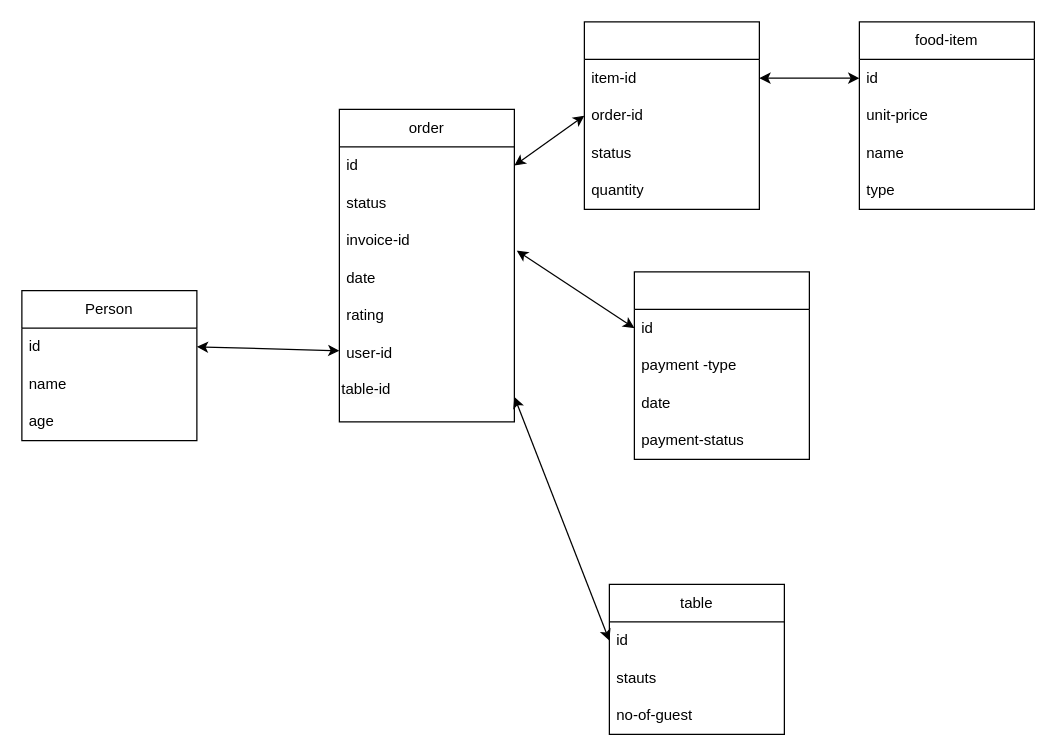
Image size: 1056x756. Some labels were removed from this diagram. Each missing label, with the box of its shape:
invoice: (633, 271, 809, 459)
order-item: (583, 21, 759, 209)
